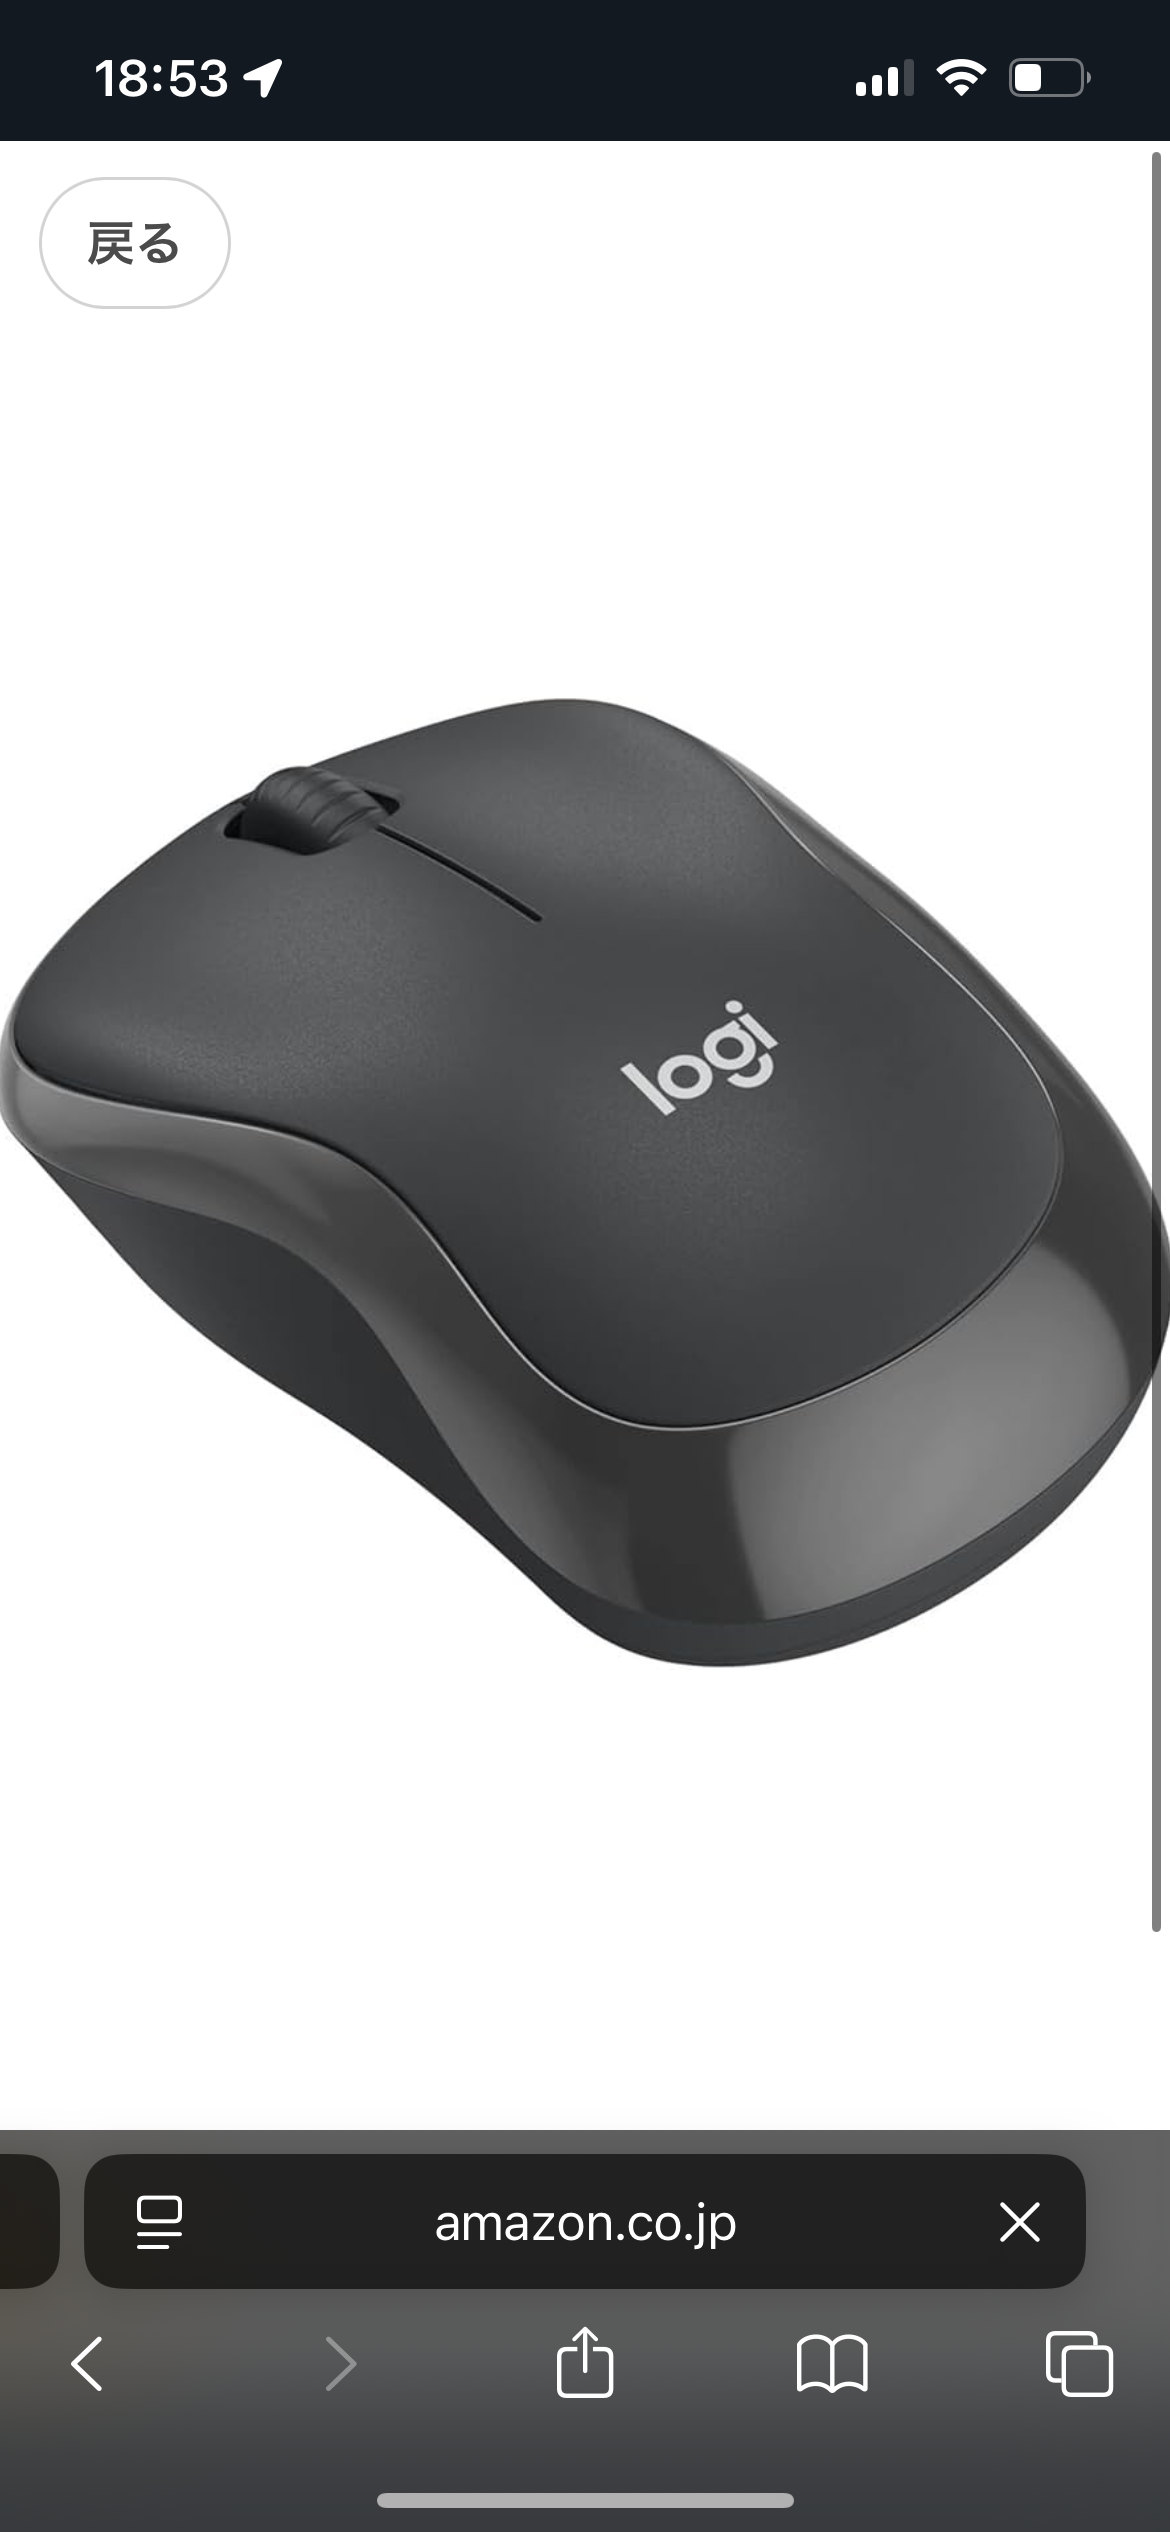mouse: (491, 683, 679, 1687)
